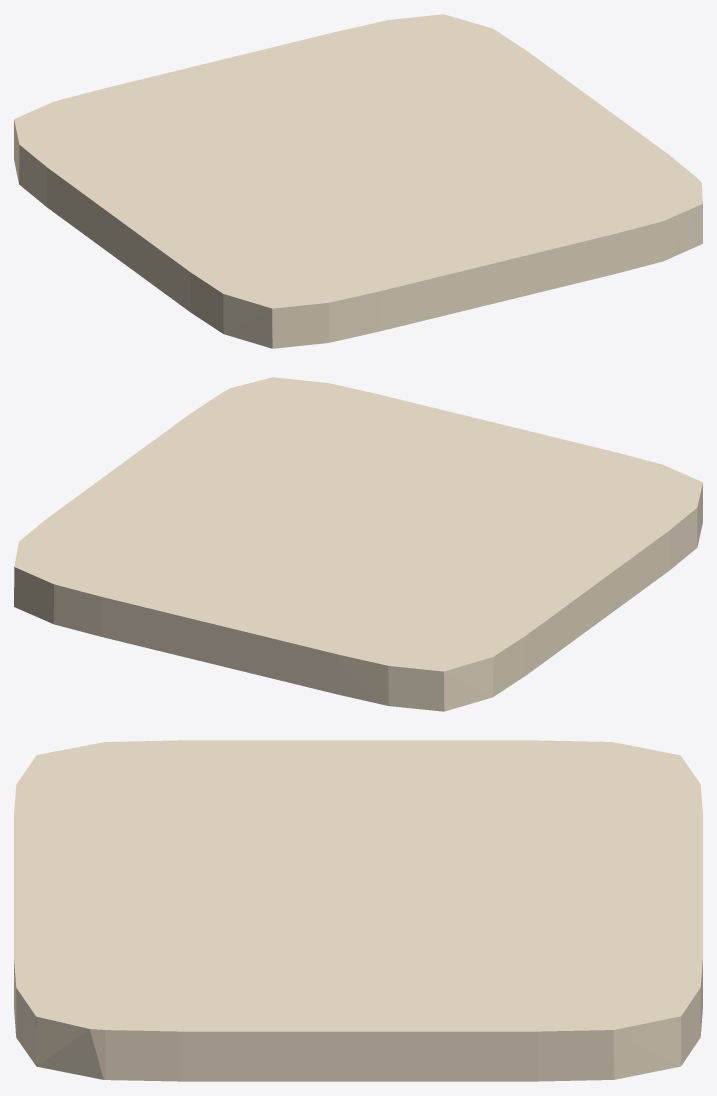
File: rounded-base.glb
3 views of the same model, one above another, from view 1: azimuth 30°, elevation 25°; view 2: azimuth 150°, elevation 25°; view 3: azimuth 270°, elevation 25° (orthographic). The views are drawn at different scales.
Visible parts, largest first — view 1: COM-01_RoundedBase; view 2: COM-01_RoundedBase; view 3: COM-01_RoundedBase.
Boxes of the visible parts, left/top/right/bottom form: COM-01_RoundedBase: left=14, top=14, right=702, bottom=348; COM-01_RoundedBase: left=14, top=377, right=702, bottom=711; COM-01_RoundedBase: left=14, top=740, right=702, bottom=1081.
Bounding box in the file's own units: 2 × 0.16 × 2.
1 material, 1 textured.
